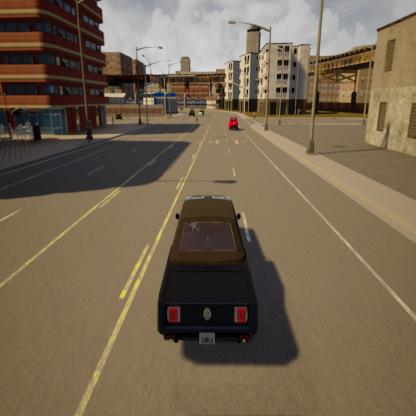Cars: (157, 183, 278, 365), (227, 112, 244, 141), (115, 108, 124, 123), (189, 105, 195, 120), (198, 106, 204, 120)
Pedestrian: (84, 111, 94, 147), (195, 111, 199, 129), (111, 114, 115, 129), (161, 108, 165, 122)
